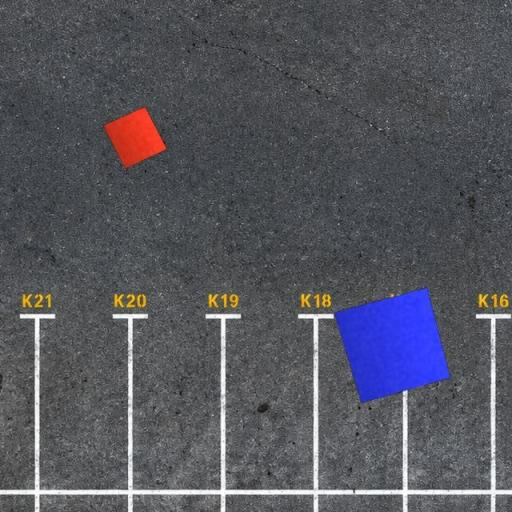BLUE_SQUARE: (334, 286, 451, 404)
RED_SQUARE: (102, 106, 168, 170)
